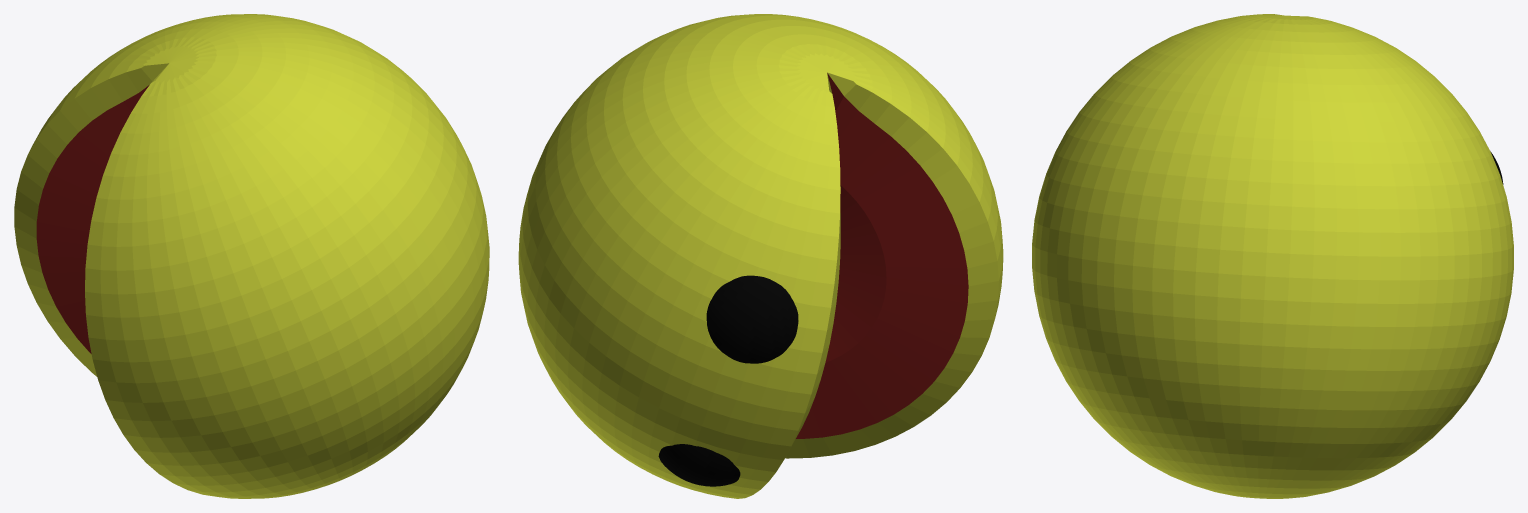
The model's file is pacman.fbx.
The picture shows the model from 3 angles, left to right: view 1: azimuth 30°, elevation 25°; view 2: azimuth 150°, elevation 25°; view 3: azimuth 270°, elevation 25°; orthographic projection.
Parts seen in each view (by area): view 1: Sphere.001; view 2: Sphere.001; view 3: Sphere.001.
Part boxes in pixels (x1,y1,x2,y2): Sphere.001: (14, 14, 489, 498); Sphere.001: (518, 14, 1003, 498); Sphere.001: (1032, 14, 1513, 498).
Size of the model in its own units: 673 by 689 by 690.
